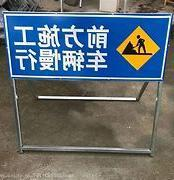sign: (4, 14, 169, 79)
